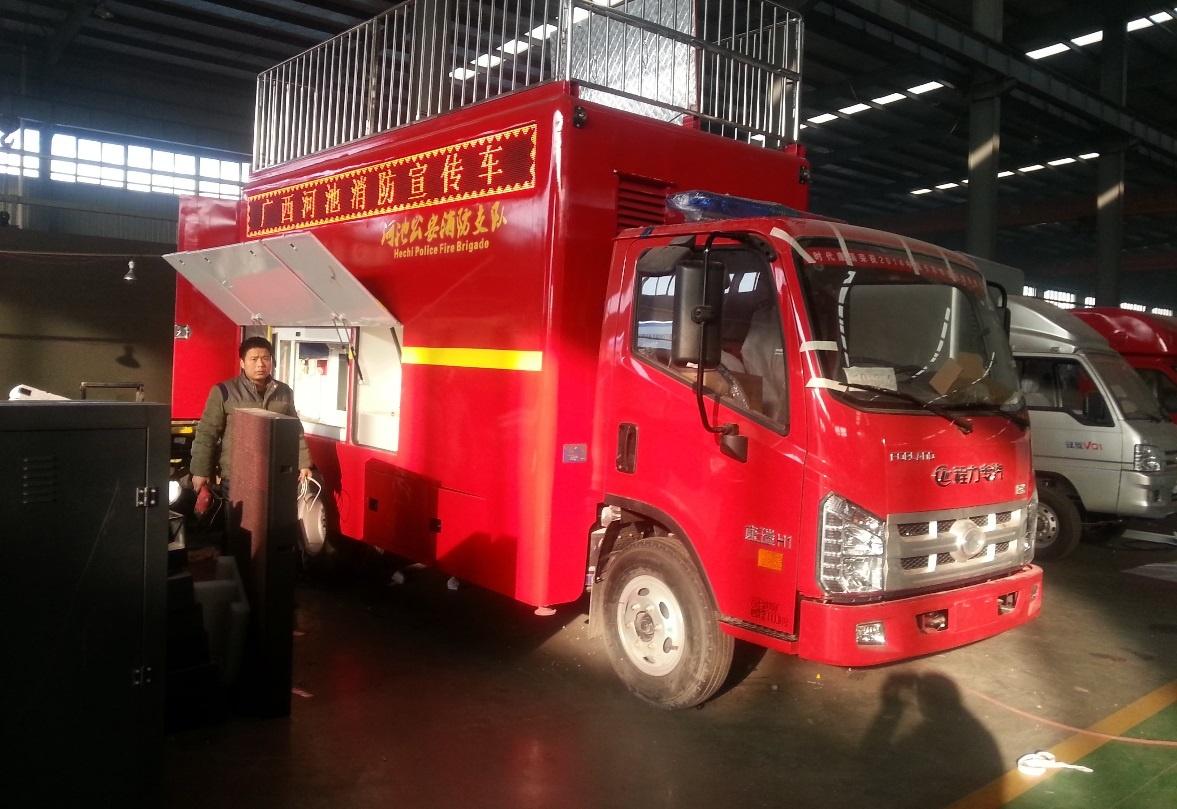fire engine: (164, 165, 1059, 716)
